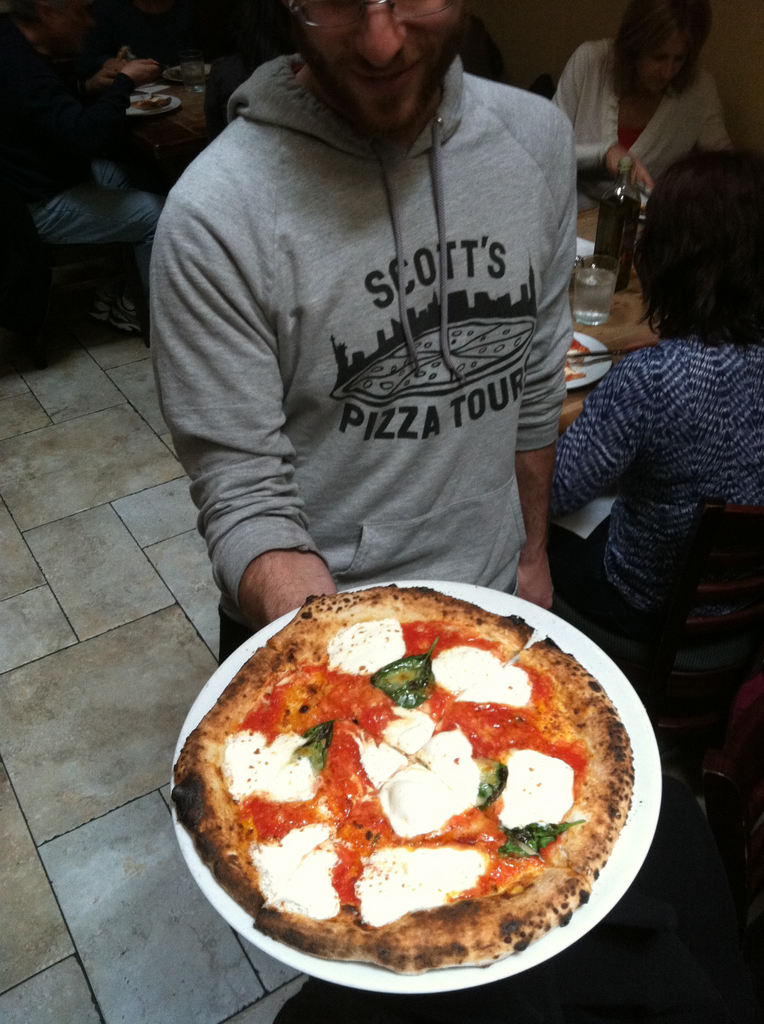Pizza: (178, 583, 638, 974)
